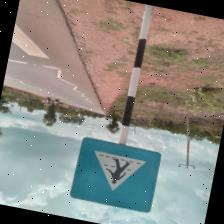blueboard: (69, 136, 164, 215)
crossing: (1, 23, 119, 116)
